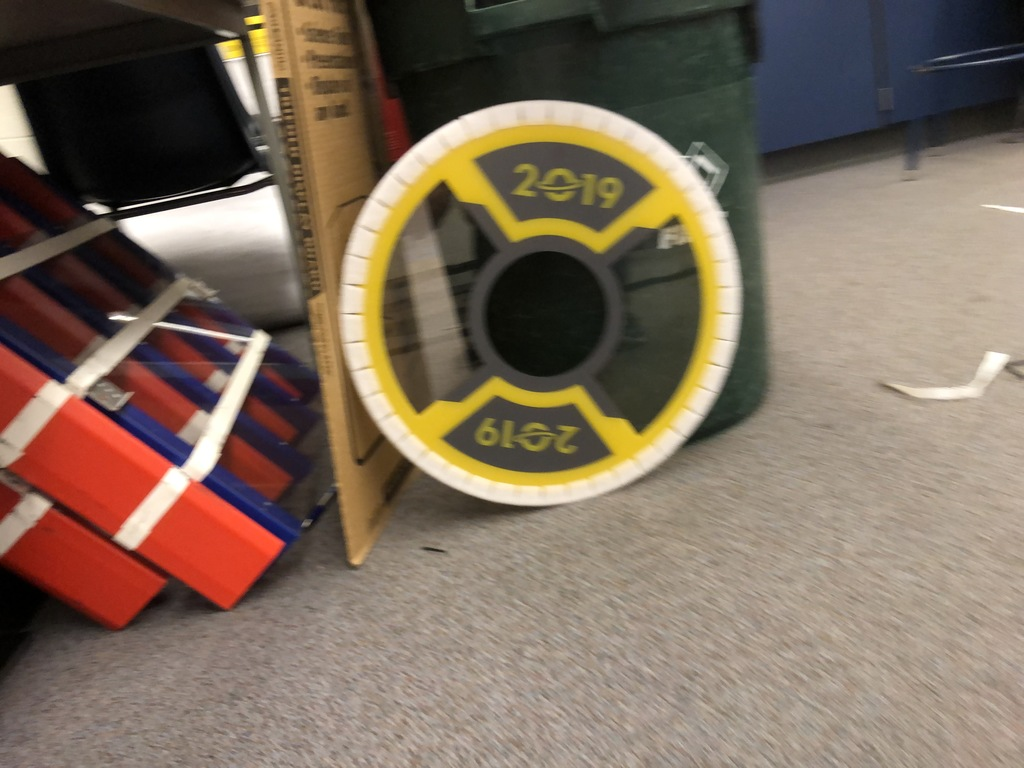hatch_panel: (336, 89, 766, 530)
